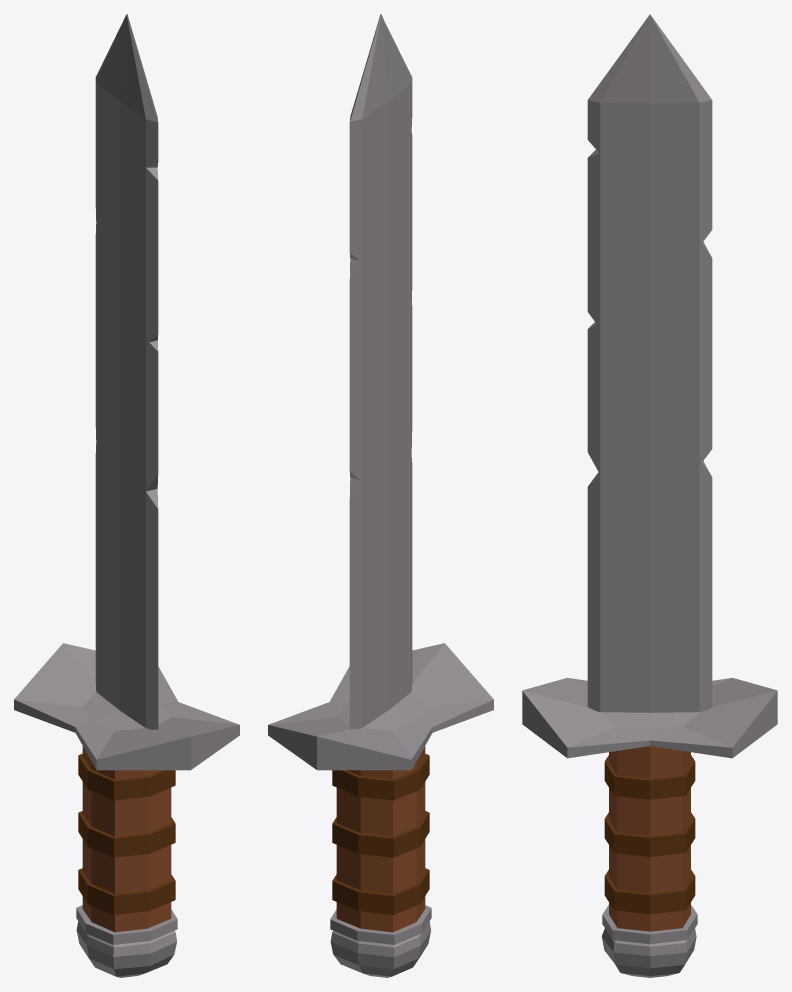
The model's file is MAč.fbx.
The picture shows the model from 3 angles, left to right: view 1: azimuth 30°, elevation 25°; view 2: azimuth 150°, elevation 25°; view 3: azimuth 270°, elevation 25°; orthographic projection.
Parts seen in each view (by area): view 1: Mac; view 2: Mac; view 3: Mac.
Boxes of the visible parts, box(x1,y1,x2,y2) form: Mac: box(14, 14, 239, 977); Mac: box(268, 14, 493, 977); Mac: box(522, 14, 777, 977).
Bounding box in the file's own units: 388 × 2468 × 599.
